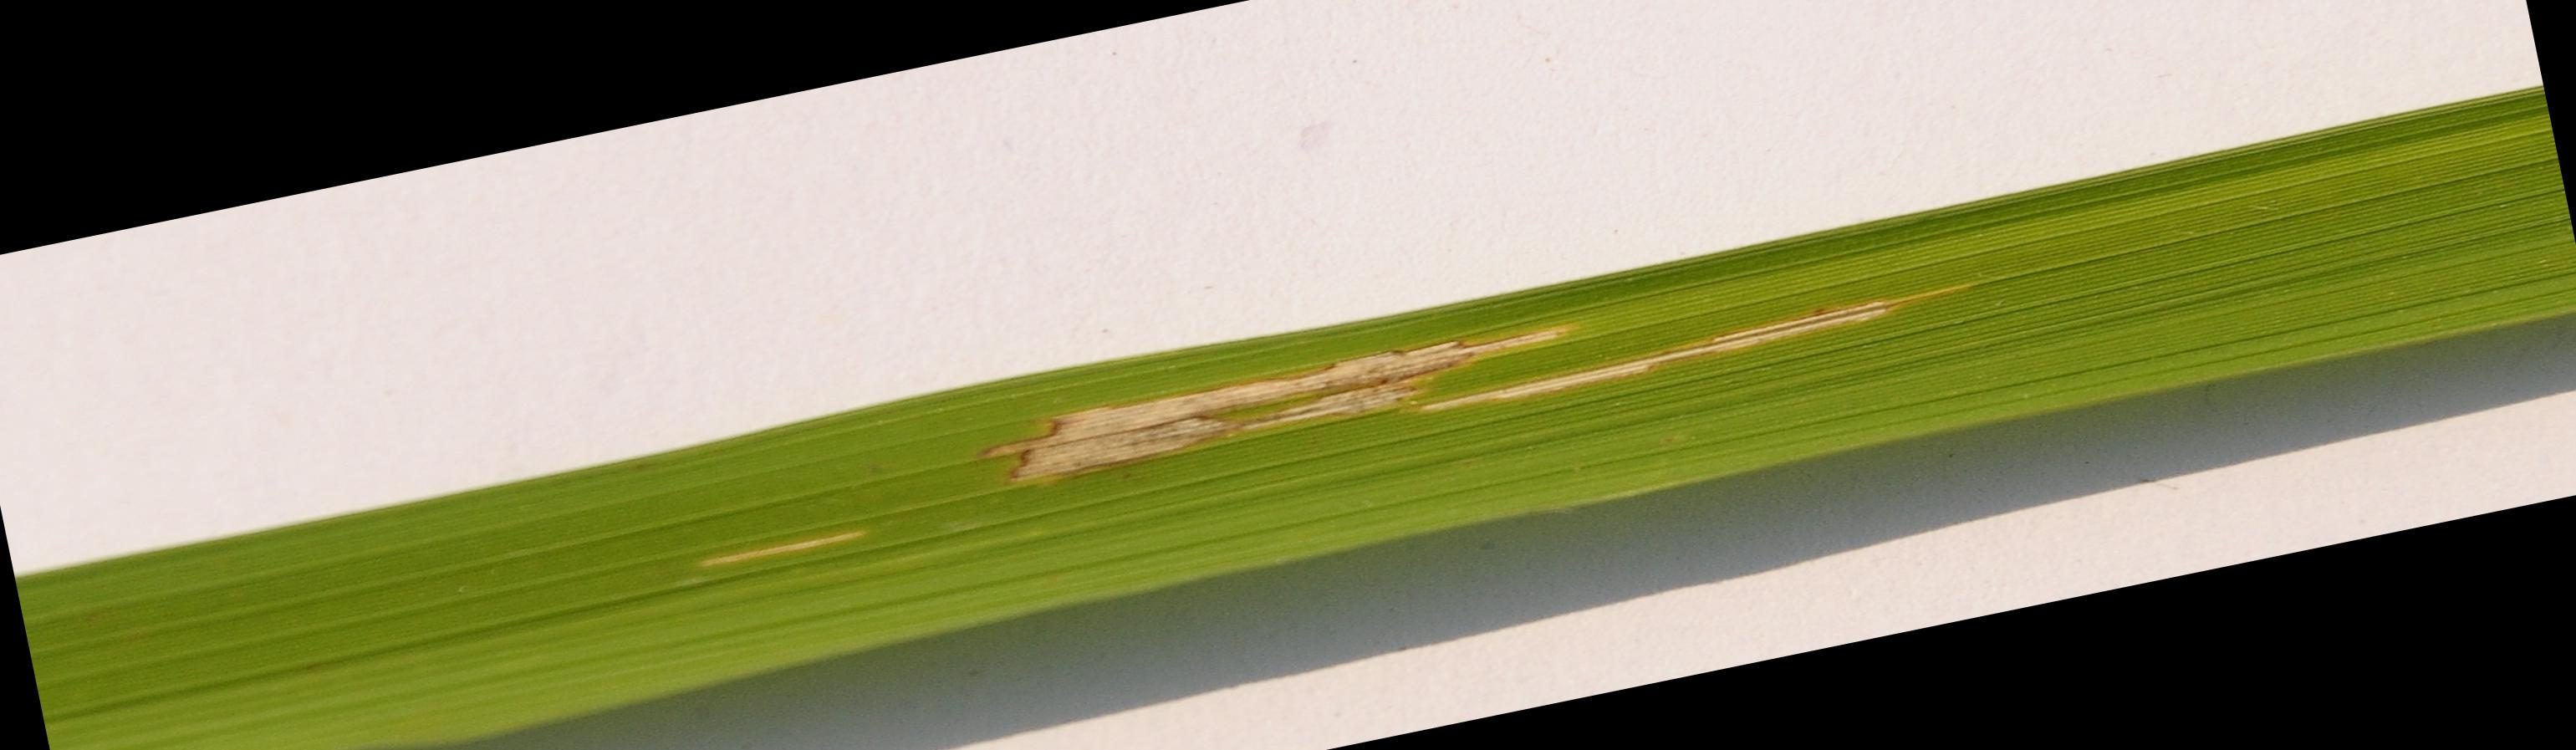bacterial_leaf_blight: (918, 282, 1955, 497)
